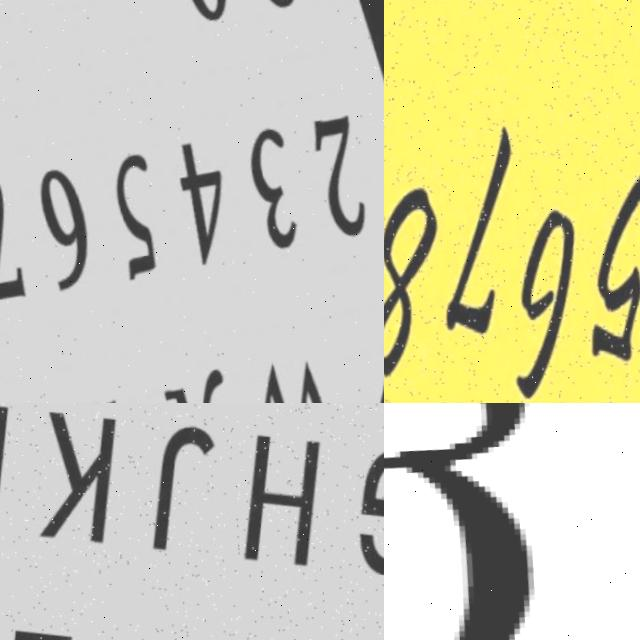0: (148, 0, 251, 38)
2: (286, 76, 384, 265)
3: (228, 107, 328, 263)
4: (152, 113, 262, 276)
5: (545, 127, 640, 384), (76, 123, 197, 296)
6: (470, 169, 629, 403), (9, 134, 126, 310)
7: (397, 91, 573, 377), (0, 143, 53, 324)
8: (384, 149, 493, 403)
9: (384, 82, 422, 327), (221, 0, 331, 26)
G: (384, 403, 607, 640)
